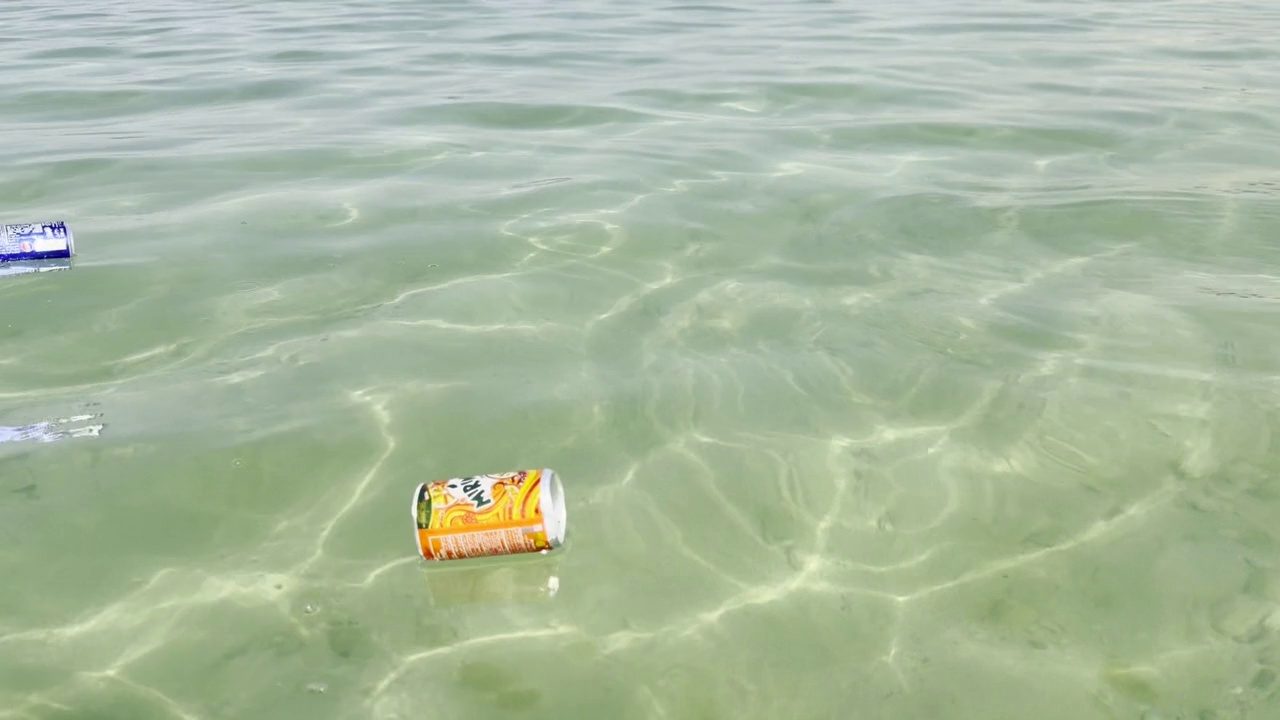debris: (410, 460, 579, 568), (0, 209, 80, 278)
